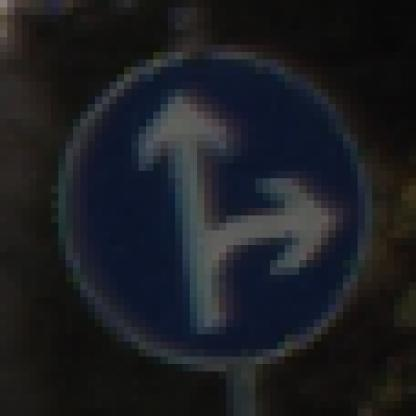Straight or Right: (45, 38, 380, 380)
